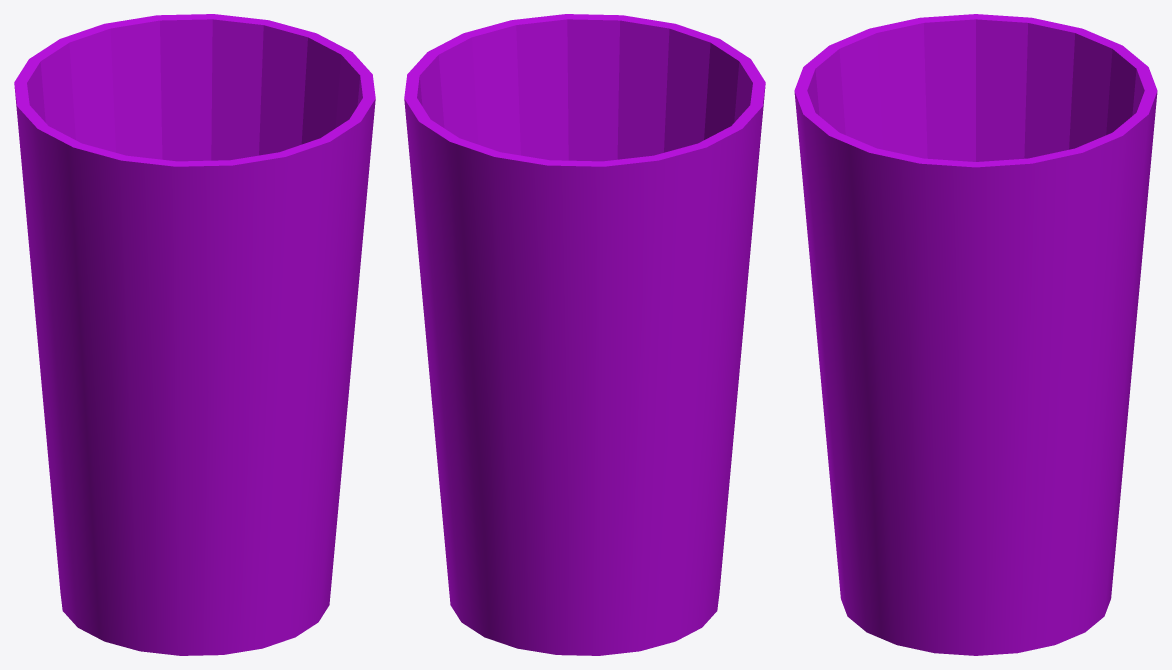
Rendered from Cup_Purple.fbx.
The picture shows the model from 3 angles, left to right: view 1: azimuth 30°, elevation 25°; view 2: azimuth 150°, elevation 25°; view 3: azimuth 270°, elevation 25°; orthographic projection.
Visible parts, largest first — view 1: Cup_Purple; view 2: Cup_Purple; view 3: Cup_Purple.
Part boxes in pixels (x1=…): Cup_Purple: x1=14, y1=14, x2=375, y2=655; Cup_Purple: x1=404, y1=14, x2=765, y2=655; Cup_Purple: x1=794, y1=14, x2=1157, y2=655.
Size of the model in its own units: 8.2 by 12.67 by 8.2.
